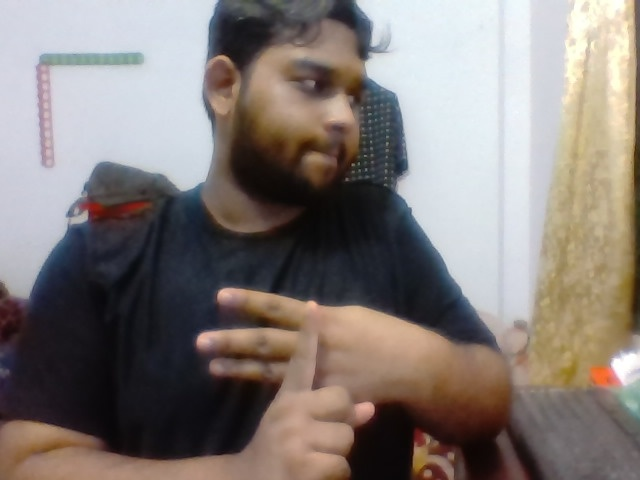E: (187, 267, 401, 480)
